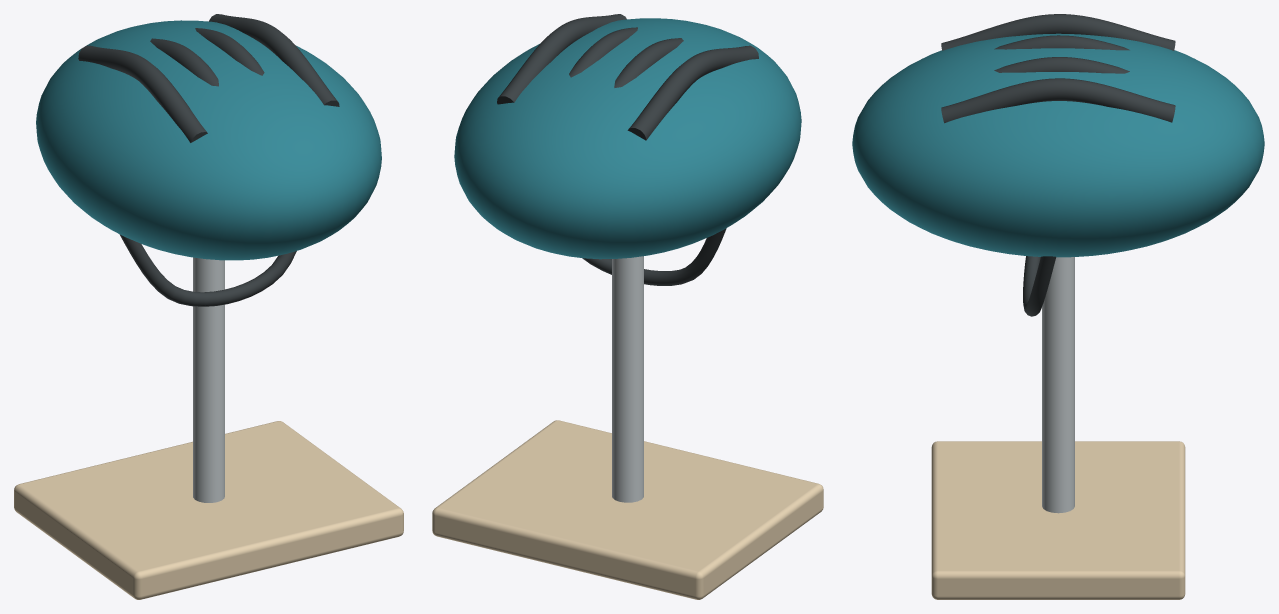
The model's file is bicycle-shop-and-repair-cafe-helmet-display-stand-d5c130e5__32421.glb.
The picture shows the model from 3 angles, left to right: view 1: azimuth 30°, elevation 25°; view 2: azimuth 150°, elevation 25°; view 3: azimuth 270°, elevation 25°; orthographic projection.
Visible parts, largest first — view 1: helmet-display-stand; view 2: helmet-display-stand; view 3: helmet-display-stand.
Part boxes in pixels (<box>): helmet-display-stand: <box>14,14,403,599</box>; helmet-display-stand: <box>432,14,823,599</box>; helmet-display-stand: <box>852,14,1264,599</box>.
Size of the model in its own units: 0.26 by 0.424 by 0.325.
